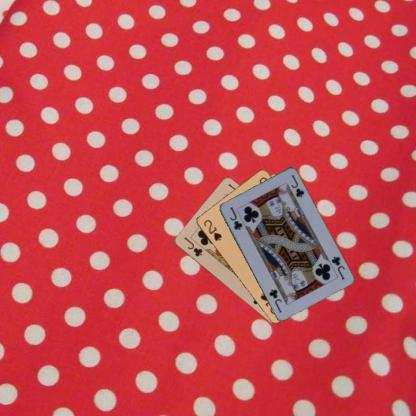2s: (201, 217, 223, 242)
Jc: (181, 235, 203, 258), (329, 252, 346, 281), (227, 204, 243, 231)
